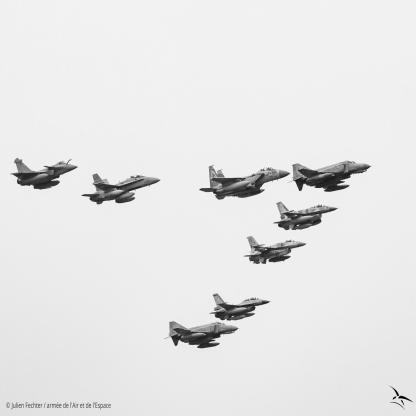F15: (200, 165, 291, 201)
F16: (274, 203, 341, 232), (244, 237, 307, 265), (210, 294, 273, 322)
F18: (82, 175, 162, 206)
F4: (288, 161, 375, 193), (165, 322, 242, 350)
Rafale: (12, 159, 80, 191)
